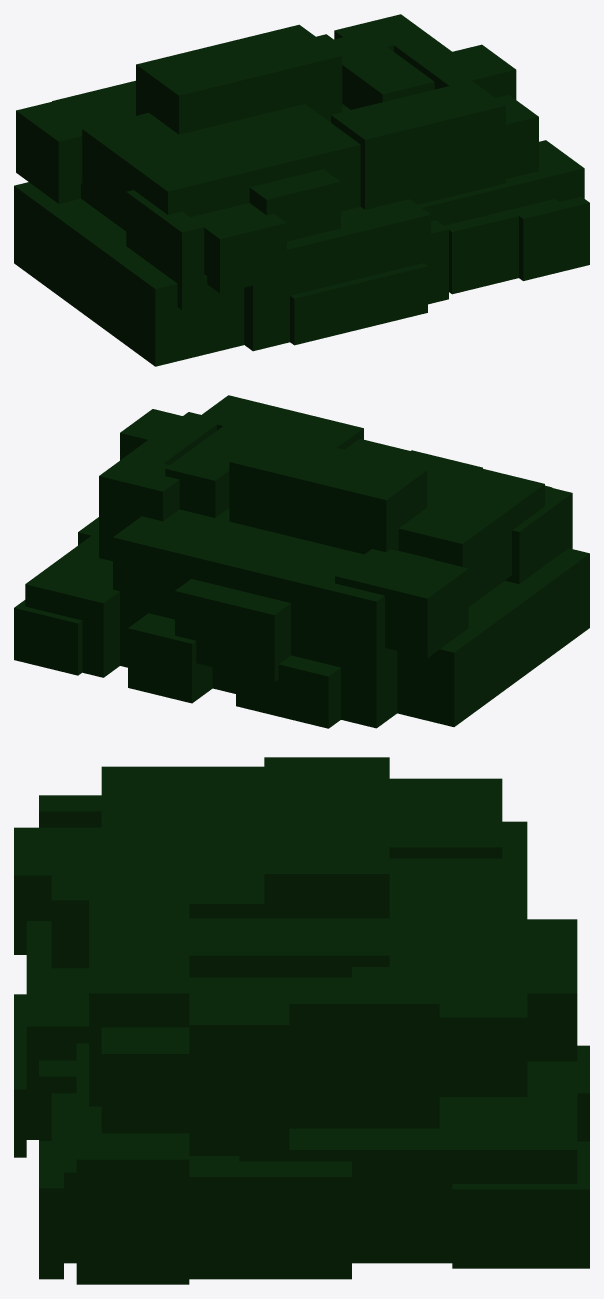
Rendered from bush2.obj.
3 renders of one model, top to bottom at view 1: azimuth 30°, elevation 25°; view 2: azimuth 150°, elevation 25°; view 3: azimuth 270°, elevation 25°, orthographic. The views are drawn at different scales.
Size of the model in its own units: 5.9 by 2.5 by 4.6.
Materials: 1 (1 with a texture image).
